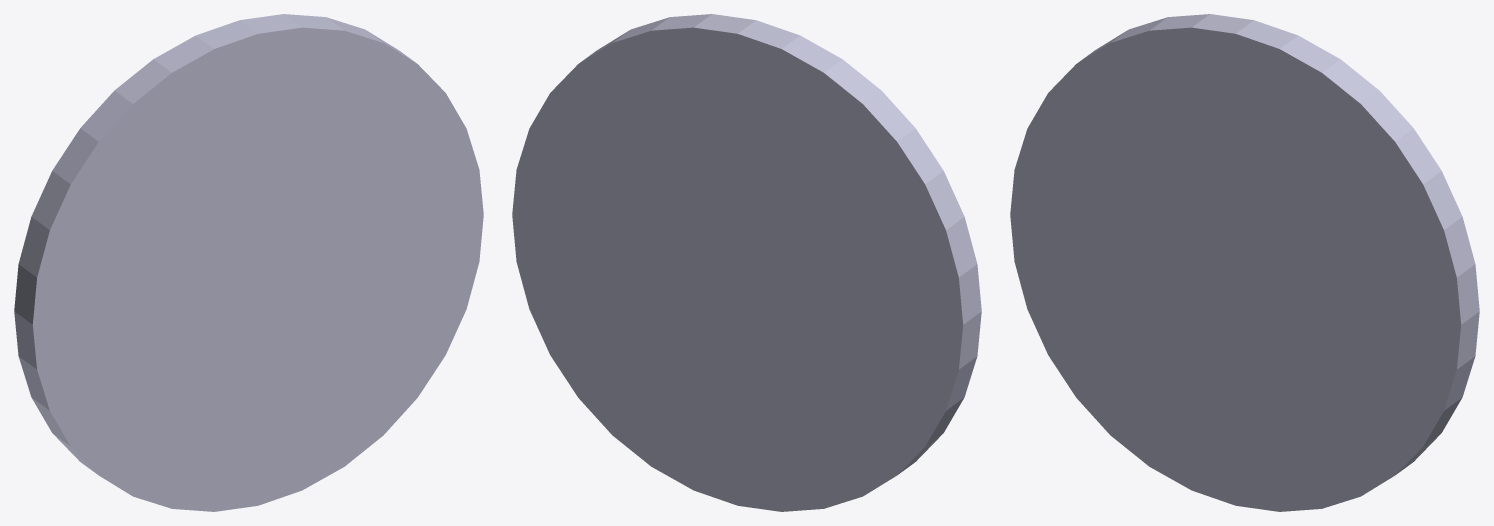
The model's file is objective-lens.glb.
3 views of the same model, side by side, from view 1: azimuth 30°, elevation 25°; view 2: azimuth 150°, elevation 25°; view 3: azimuth 330°, elevation 25° (orthographic).
Parts seen in each view (by area): view 1: world; view 2: world; view 3: world.
Boxes of the visible parts, <box> form: world: <box>14,14,483,511</box>; world: <box>512,14,981,511</box>; world: <box>1010,14,1479,511</box>.
Size of the model in its own units: 0.7 by 0.7 by 0.05.
